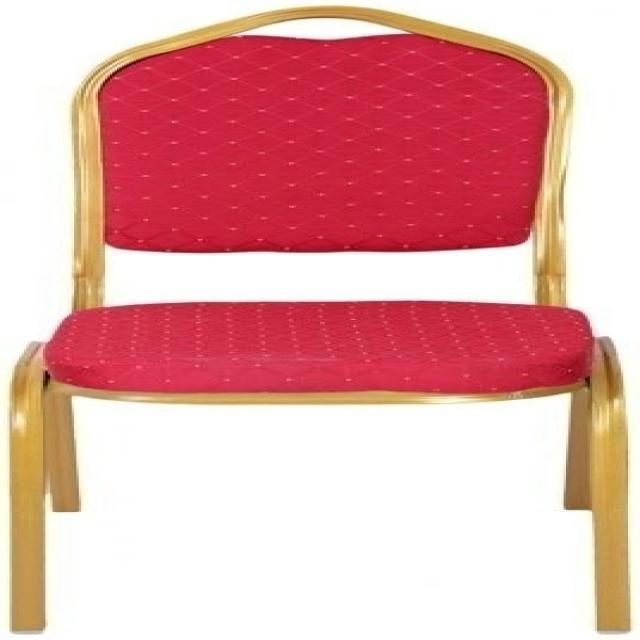chair: (16, 2, 640, 640)
